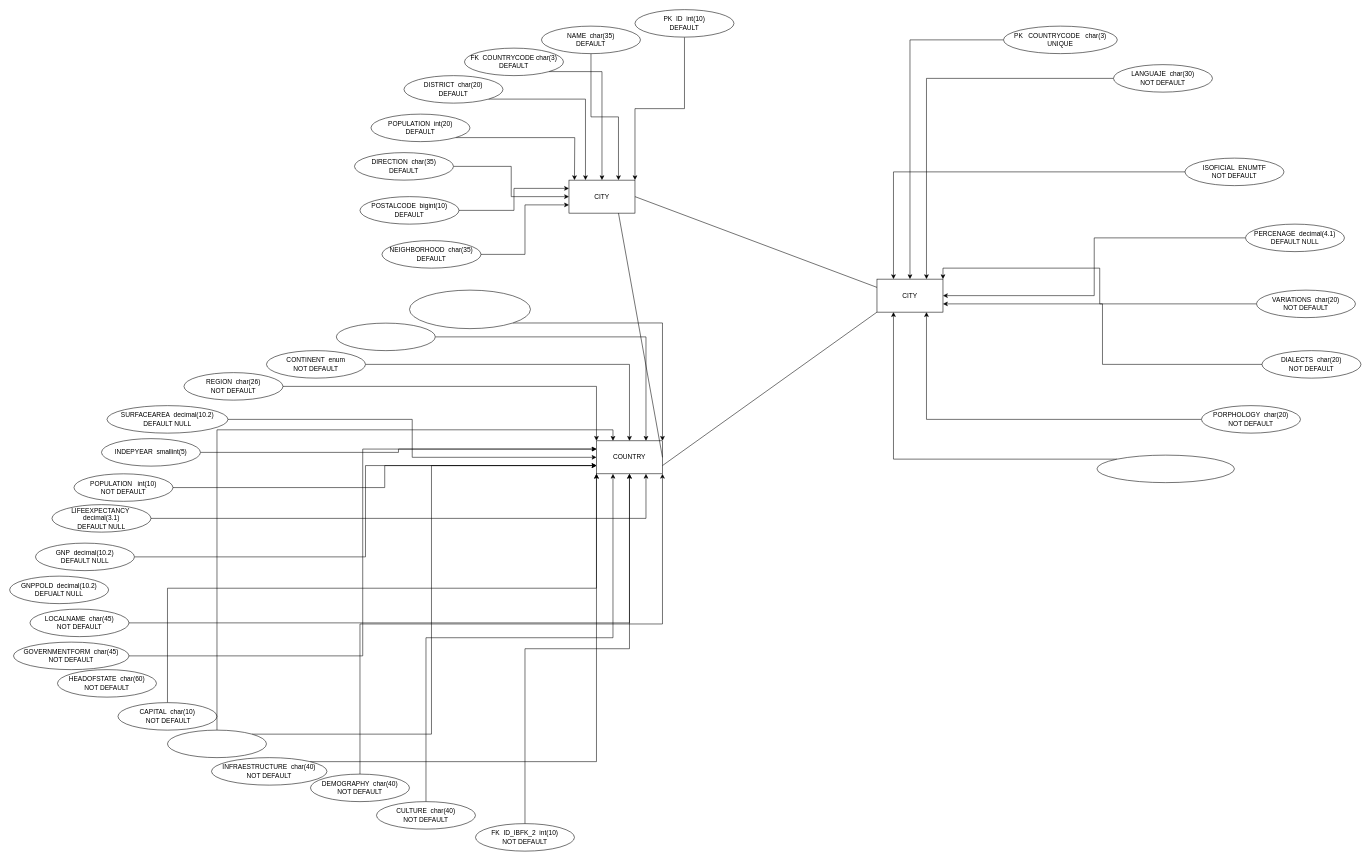
This 1371x861 diagram has some shape labels left out. The box of each missing label's shape, as (x1, y1, x2, y2) in pixels:
CODE2 char(2) NOT DEFAULT: (167, 730, 266, 758)
FK COUNTRYLANGUAJE char(20) NOT DEFAULT: (1096, 455, 1234, 483)
NAME chat(52) DEFAULT: (336, 323, 435, 351)
PK COUNTRYLANGUAJE char(20) UNIQUE: (409, 290, 530, 329)
